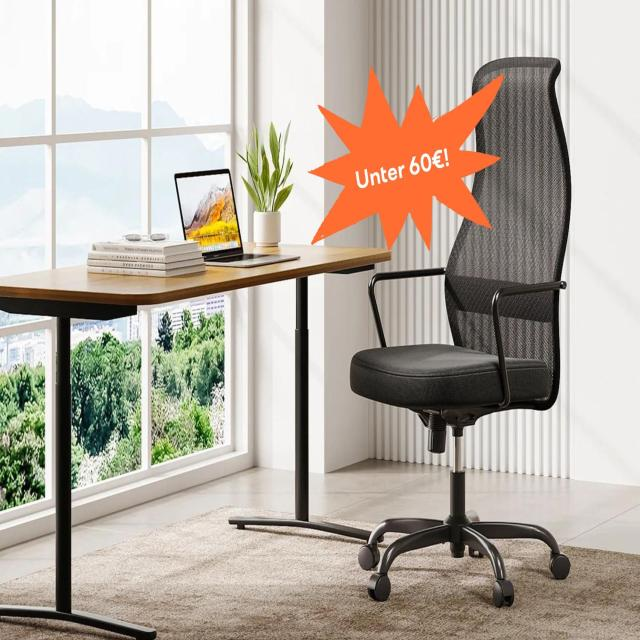chair: (349, 55, 572, 608)
